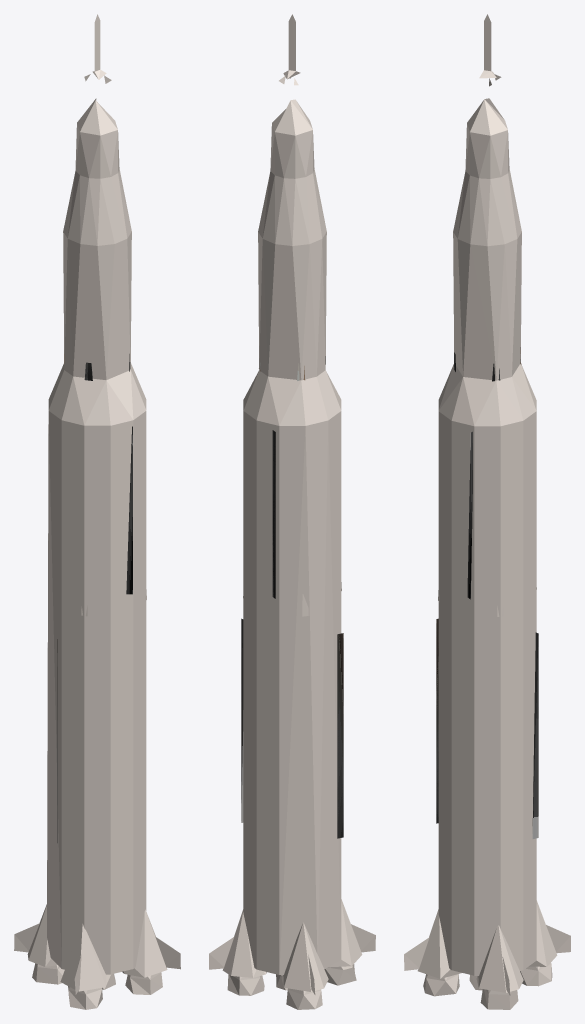
The picture shows the model from 3 angles, left to right: view 1: azimuth 30°, elevation 25°; view 2: azimuth 150°, elevation 25°; view 3: azimuth 330°, elevation 25°; orthographic projection.
Visible parts, largest first — view 1: polySurface1238_phong36_0; view 2: polySurface1238_phong36_0; view 3: polySurface1238_phong36_0.
Part boxes in pixels (<box>): polySurface1238_phong36_0: <box>14,14,180,1009</box>; polySurface1238_phong36_0: <box>209,14,375,1009</box>; polySurface1238_phong36_0: <box>404,14,570,1009</box>.
Bounding box in the file's own units: 12.68 × 111 × 12.68.
Materials: 1 (1 with a texture image).
